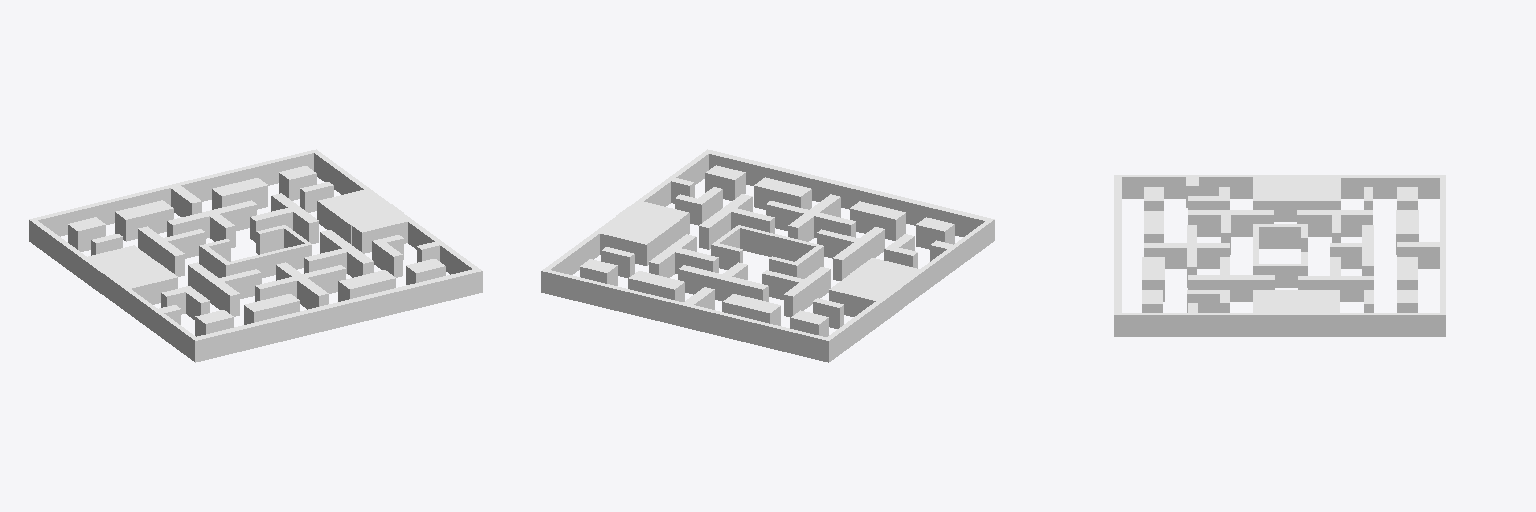
The picture shows the model from 3 angles: view 1: azimuth 30°, elevation 25°; view 2: azimuth 150°, elevation 25°; view 3: azimuth 270°, elevation 25°; orthographic projection.
Visible parts, largest first — view 1: Mesh3 G_3DGeom_3 Mesh3_Group1_Model TempSimLab_2015_12_05_16_36_, Mesh5 G_3DGeom_5 Mesh5_Group1_Model TempSimLab_2015_12_05_16_36_, Mesh17 G_3DGeom_15 Mesh15_Group1_Model TempSimLab_2015_12_05_16_, Mesh21 G_3DGeom_19 Mesh19_Group1_Model TempSimLab_2015_12_05_16_, Mesh20 G_3DGeom_18 Mesh18_Group1_Model TempSimLab_2015_12_05_16_, Mesh19 G_3DGeom_17 Mesh17_Group1_Model TempSimLab_2015_12_05_16_, Mesh1 G_3DGeom_1 Mesh1_Group2_Group1_Model TempSimLab_2015_12_05, Mesh22 G_3DGeom_20 Mesh20_Group1_Model TempSimLab_2015_12_05_16_, Mesh12 G_3DGeom_12 Mesh12_Group1_Model TempSimLab_2015_12_05_16_, Mesh13 G_3DGeom_13 Mesh13_Group1_Model TempSimLab_2015_12_05_16_, Mesh9 G_3DGeom_9 Mesh9_Group1_Model TempSimLab_2015_12_05_16_36_, Mesh11 G_3DGeom_11 Mesh11_Group1_Model TempSimLab_2015_12_05_16_ (+11 smaller); view 2: Mesh5 G_3DGeom_5 Mesh5_Group1_Model TempSimLab_2015_12_05_16_36_, Mesh3 G_3DGeom_3 Mesh3_Group1_Model TempSimLab_2015_12_05_16_36_, Mesh9 G_3DGeom_9 Mesh9_Group1_Model TempSimLab_2015_12_05_16_36_, Mesh17 G_3DGeom_15 Mesh15_Group1_Model TempSimLab_2015_12_05_16_, Mesh21 G_3DGeom_19 Mesh19_Group1_Model TempSimLab_2015_12_05_16_, Mesh20 G_3DGeom_18 Mesh18_Group1_Model TempSimLab_2015_12_05_16_, Mesh19 G_3DGeom_17 Mesh17_Group1_Model TempSimLab_2015_12_05_16_, Mesh22 G_3DGeom_20 Mesh20_Group1_Model TempSimLab_2015_12_05_16_, Mesh12 G_3DGeom_12 Mesh12_Group1_Model TempSimLab_2015_12_05_16_, Mesh10 G_3DGeom_10 Mesh10_Group1_Model TempSimLab_2015_12_05_16_, Mesh24 G_3DGeom_22 Mesh22_Group1_Model TempSimLab_2015_12_05_16_, Mesh13 G_3DGeom_13 Mesh13_Group1_Model TempSimLab_2015_12_05_16_ (+12 smaller); view 3: Mesh5 G_3DGeom_5 Mesh5_Group1_Model TempSimLab_2015_12_05_16_36_, Mesh3 G_3DGeom_3 Mesh3_Group1_Model TempSimLab_2015_12_05_16_36_, Mesh17 G_3DGeom_15 Mesh15_Group1_Model TempSimLab_2015_12_05_16_, Mesh21 G_3DGeom_19 Mesh19_Group1_Model TempSimLab_2015_12_05_16_, Mesh19 G_3DGeom_17 Mesh17_Group1_Model TempSimLab_2015_12_05_16_, Mesh9 G_3DGeom_9 Mesh9_Group1_Model TempSimLab_2015_12_05_16_36_, Mesh22 G_3DGeom_20 Mesh20_Group1_Model TempSimLab_2015_12_05_16_, Mesh12 G_3DGeom_12 Mesh12_Group1_Model TempSimLab_2015_12_05_16_, Mesh20 G_3DGeom_18 Mesh18_Group1_Model TempSimLab_2015_12_05_16_, Mesh14 G_3DGeom_13_1 Mesh13_Group1_Model TempSimLab_2015_12_05_1, Mesh15 G_3DGeom_13_2 Mesh13_Group1_Model TempSimLab_2015_12_05_1, Mesh23 G_3DGeom_21 Mesh21_Group1_Model TempSimLab_2015_12_05_16_ (+6 smaller).
Part boxes in pixels (left/top/right/bottom): Mesh3 G_3DGeom_3 Mesh3_Group1_Model TempSimLab_2015_12_05_16_36_: left=115, top=213, right=482, bottom=362; Mesh5 G_3DGeom_5 Mesh5_Group1_Model TempSimLab_2015_12_05_16_36_: left=29, top=149, right=389, bottom=294; Mesh17 G_3DGeom_15 Mesh15_Group1_Model TempSimLab_2015_12_05_16_: left=255, top=262, right=345, bottom=309; Mesh21 G_3DGeom_19 Mesh19_Group1_Model TempSimLab_2015_12_05_16_: left=188, top=262, right=261, bottom=316; Mesh20 G_3DGeom_18 Mesh18_Group1_Model TempSimLab_2015_12_05_16_: left=167, top=200, right=256, bottom=247; Mesh19 G_3DGeom_17 Mesh17_Group1_Model TempSimLab_2015_12_05_16_: left=138, top=226, right=205, bottom=276; Mesh1 G_3DGeom_1 Mesh1_Group2_Group1_Model TempSimLab_2015_12_05: left=200, top=225, right=311, bottom=277; Mesh22 G_3DGeom_20 Mesh20_Group1_Model TempSimLab_2015_12_05_16_: left=304, top=230, right=373, bottom=277; Mesh12 G_3DGeom_12 Mesh12_Group1_Model TempSimLab_2015_12_05_16_: left=250, top=193, right=318, bottom=243; Mesh13 G_3DGeom_13 Mesh13_Group1_Model TempSimLab_2015_12_05_16_: left=115, top=200, right=173, bottom=241; Mesh9 G_3DGeom_9 Mesh9_Group1_Model TempSimLab_2015_12_05_16_36_: left=199, top=228, right=304, bottom=277; Mesh11 G_3DGeom_11 Mesh11_Group1_Model TempSimLab_2015_12_05_16_: left=212, top=178, right=267, bottom=209; Mesh5 G_3DGeom_5 Mesh5_Group1_Model TempSimLab_2015_12_05_16_36_: left=541, top=216, right=902, bottom=362; Mesh3 G_3DGeom_3 Mesh3_Group1_Model TempSimLab_2015_12_05_16_36_: left=628, top=149, right=994, bottom=299; Mesh9 G_3DGeom_9 Mesh9_Group1_Model TempSimLab_2015_12_05_16_36_: left=711, top=228, right=823, bottom=278; Mesh17 G_3DGeom_15 Mesh15_Group1_Model TempSimLab_2015_12_05_16_: left=766, top=194, right=855, bottom=241; Mesh21 G_3DGeom_19 Mesh19_Group1_Model TempSimLab_2015_12_05_16_: left=817, top=227, right=884, bottom=280; Mesh20 G_3DGeom_18 Mesh18_Group1_Model TempSimLab_2015_12_05_16_: left=678, top=262, right=768, bottom=301; Mesh19 G_3DGeom_17 Mesh17_Group1_Model TempSimLab_2015_12_05_16_: left=762, top=267, right=830, bottom=317; Mesh22 G_3DGeom_20 Mesh20_Group1_Model TempSimLab_2015_12_05_16_: left=699, top=194, right=774, bottom=249; Mesh12 G_3DGeom_12 Mesh12_Group1_Model TempSimLab_2015_12_05_16_: left=649, top=234, right=718, bottom=277; Mesh10 G_3DGeom_10 Mesh10_Group1_Model TempSimLab_2015_12_05_16_: left=850, top=201, right=905, bottom=240; Mesh24 G_3DGeom_22 Mesh22_Group1_Model TempSimLab_2015_12_05_16_: left=754, top=177, right=811, bottom=209; Mesh13 G_3DGeom_13 Mesh13_Group1_Model TempSimLab_2015_12_05_16_: left=722, top=294, right=780, bottom=325; Mesh5 G_3DGeom_5 Mesh5_Group1_Model TempSimLab_2015_12_05_16_36_: left=1297, top=175, right=1445, bottom=336; Mesh3 G_3DGeom_3 Mesh3_Group1_Model TempSimLab_2015_12_05_16_36_: left=1114, top=175, right=1274, bottom=336; Mesh17 G_3DGeom_15 Mesh15_Group1_Model TempSimLab_2015_12_05_16_: left=1144, top=225, right=1229, bottom=287; Mesh21 G_3DGeom_19 Mesh19_Group1_Model TempSimLab_2015_12_05_16_: left=1188, top=210, right=1273, bottom=254; Mesh19 G_3DGeom_17 Mesh17_Group1_Model TempSimLab_2015_12_05_16_: left=1297, top=210, right=1372, bottom=242; Mesh9 G_3DGeom_9 Mesh9_Group1_Model TempSimLab_2015_12_05_16_36_: left=1253, top=227, right=1307, bottom=287; Mesh22 G_3DGeom_20 Mesh20_Group1_Model TempSimLab_2015_12_05_16_: left=1188, top=257, right=1274, bottom=301; Mesh12 G_3DGeom_12 Mesh12_Group1_Model TempSimLab_2015_12_05_16_: left=1298, top=257, right=1373, bottom=301; Mesh20 G_3DGeom_18 Mesh18_Group1_Model TempSimLab_2015_12_05_16_: left=1330, top=225, right=1373, bottom=275; Mesh14 G_3DGeom_13_1 Mesh13_Group1_Model TempSimLab_2015_12_05_1: left=1275, top=175, right=1298, bottom=221; Mesh15 G_3DGeom_13_2 Mesh13_Group1_Model TempSimLab_2015_12_05_1: left=1273, top=290, right=1296, bottom=336; Mesh23 G_3DGeom_21 Mesh21_Group1_Model TempSimLab_2015_12_05_16_: left=1187, top=290, right=1229, bottom=312.
Size of the model in its own units: 8.48 by 0.6096 by 8.47.
1 materials, 1 textured.